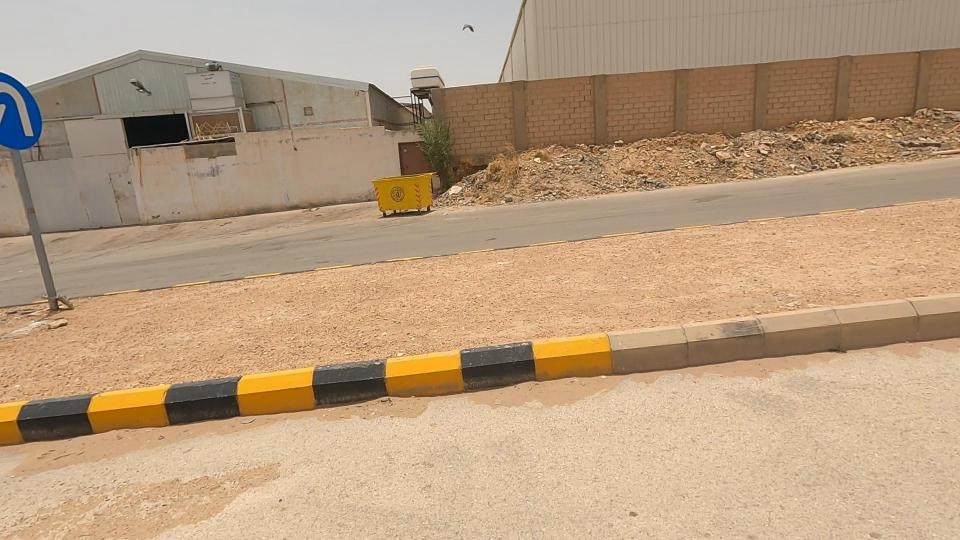CLUTTER_SIDEWALK: (0, 230, 656, 435), (337, 200, 960, 362)
SAND_ON_ROAD: (400, 100, 740, 229), (591, 79, 960, 191)
